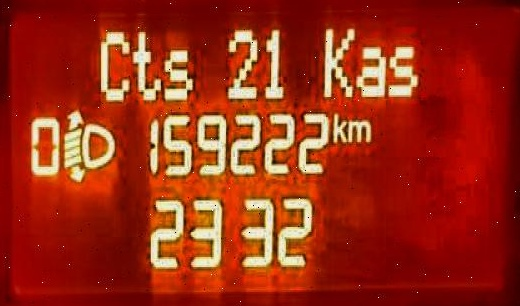0: (28, 113, 58, 175)
1: (263, 27, 284, 98), (146, 115, 160, 173)
2: (147, 196, 184, 270), (276, 195, 313, 266), (224, 27, 257, 98), (227, 110, 259, 175), (295, 110, 328, 173), (262, 112, 294, 173)
3: (238, 197, 273, 268), (187, 197, 222, 267)
5: (159, 112, 192, 177)
9: (195, 111, 226, 175)
X: (321, 25, 355, 98), (97, 28, 129, 102), (131, 28, 160, 100), (386, 43, 420, 97), (353, 43, 386, 98), (162, 47, 194, 102), (346, 117, 372, 143), (331, 110, 346, 143)
